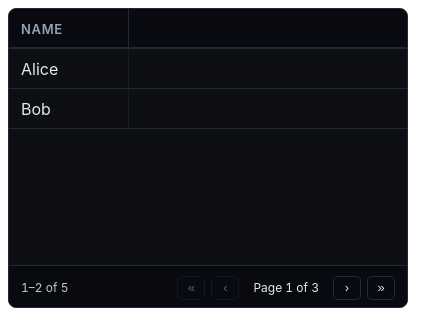
Grid pagination prop › paginates client rows without requiring a separate pagination component
Expected: the text "Alice" is shown, [21,58,58,78]
Expected: the text "Cara" is not shown
Click the button named "Next page" at (347, 288), box [333,276,361,300]
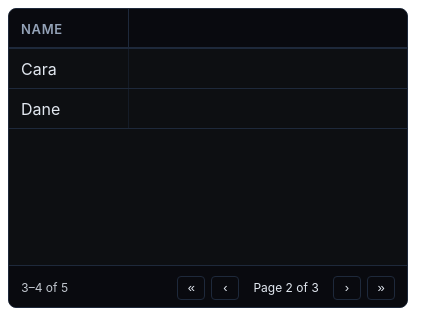
Now the text "Cara" is shown, box [21,58,57,78]
Now the text "Alice" is gone
